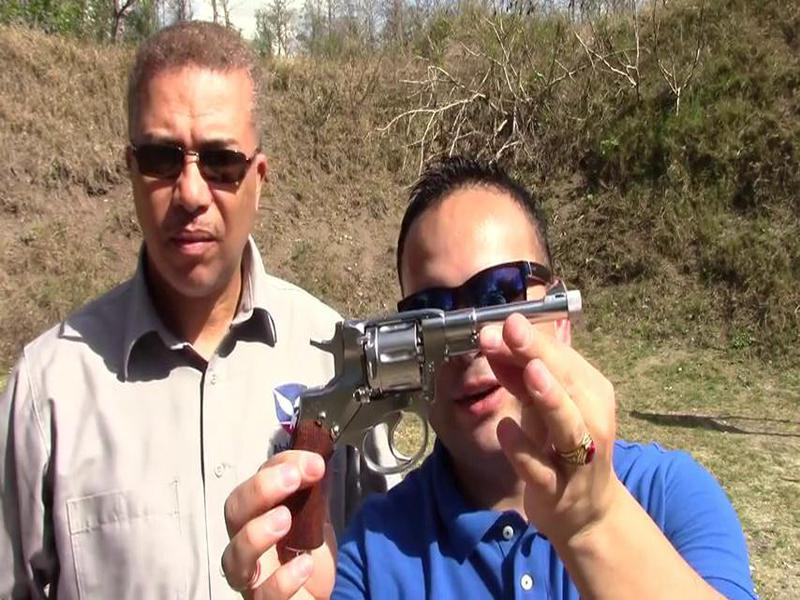Revolver: (285, 285, 593, 473)
